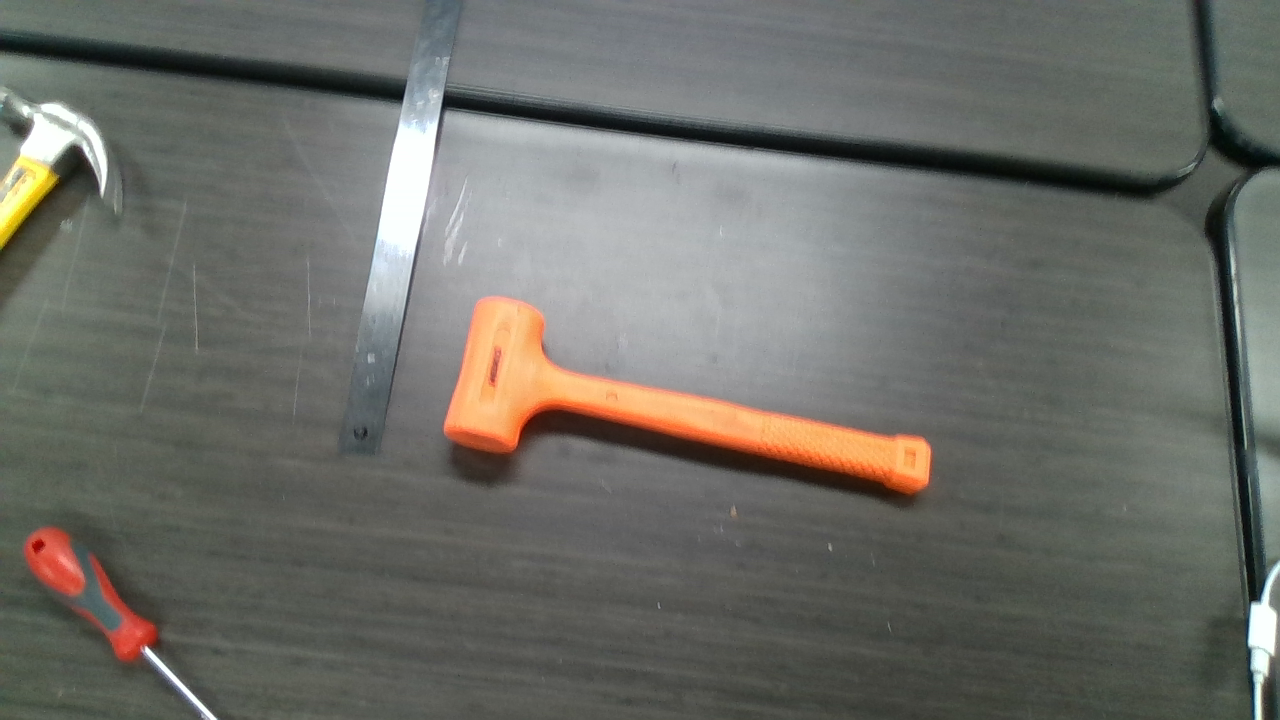Orange Hammer: (448, 294, 930, 494)
